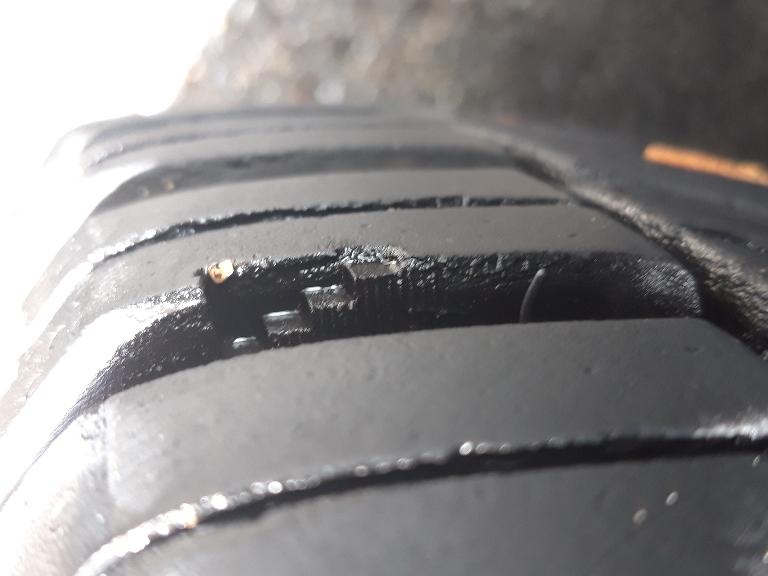temoin:80: (190, 236, 447, 367)
